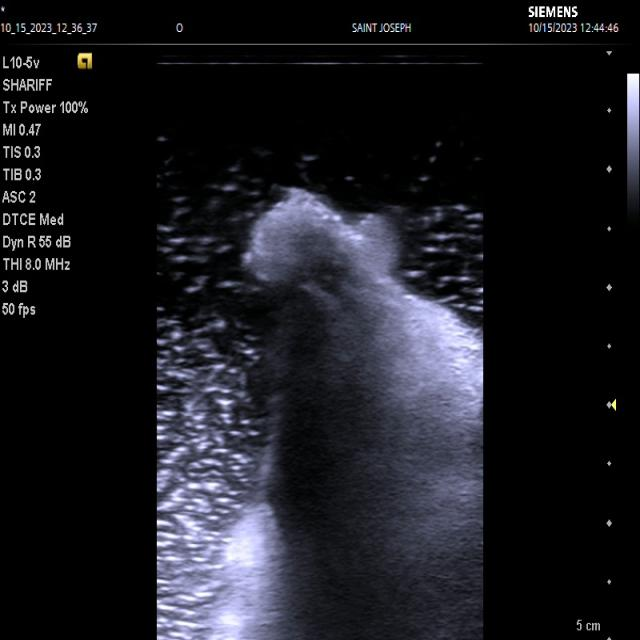tissue: (206, 189, 485, 640)
